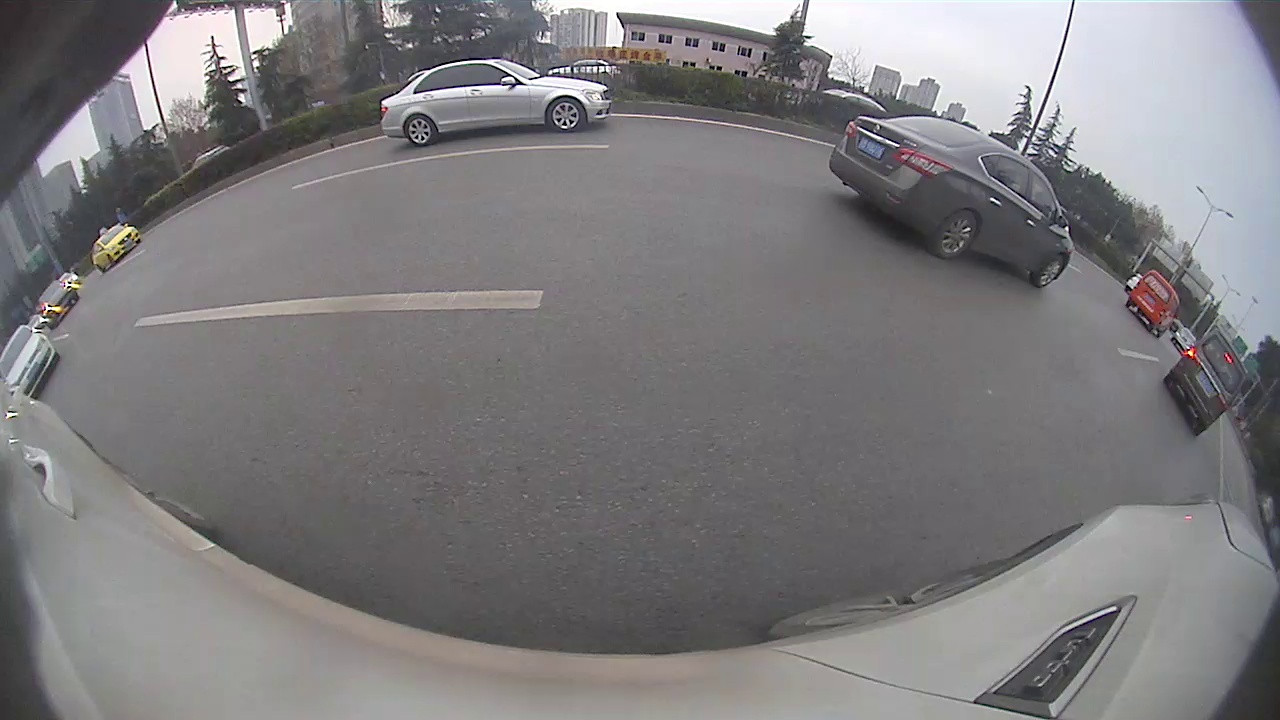car: (829, 116, 1074, 293), (375, 57, 612, 148), (1166, 323, 1251, 436), (2, 325, 57, 399), (1127, 265, 1181, 336), (88, 226, 141, 274)
front: (545, 95, 588, 135), (1035, 255, 1065, 290)
rear: (935, 209, 978, 261), (403, 112, 437, 147)
